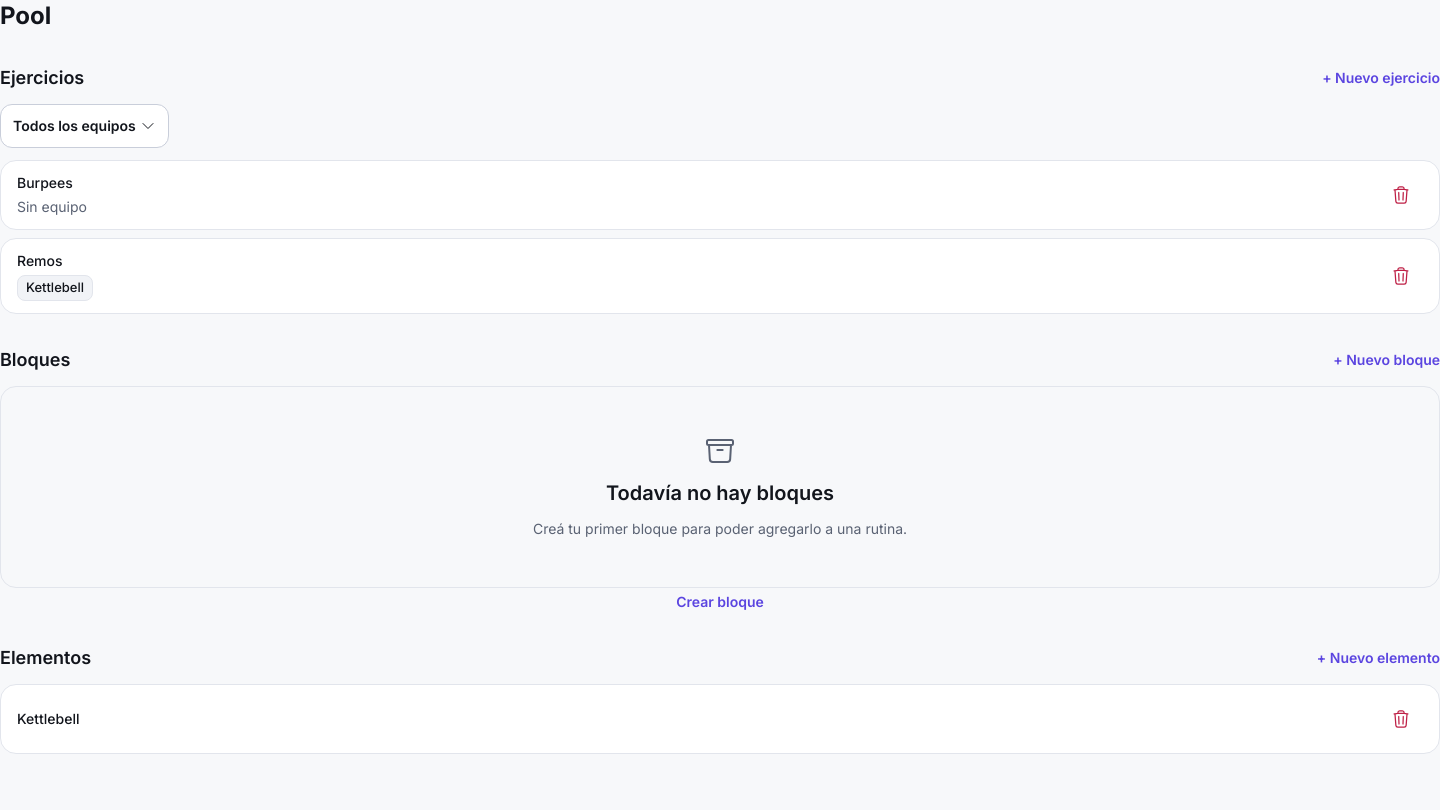
Test: PoolPage › filtro: elegir un elemento acota el listado de ejercicios (RF-018)
expect the text "Burpees" is shown: met, box [17, 174, 73, 191]
Click the button "Todos los equipos" at (84, 126), box [0, 104, 169, 148]
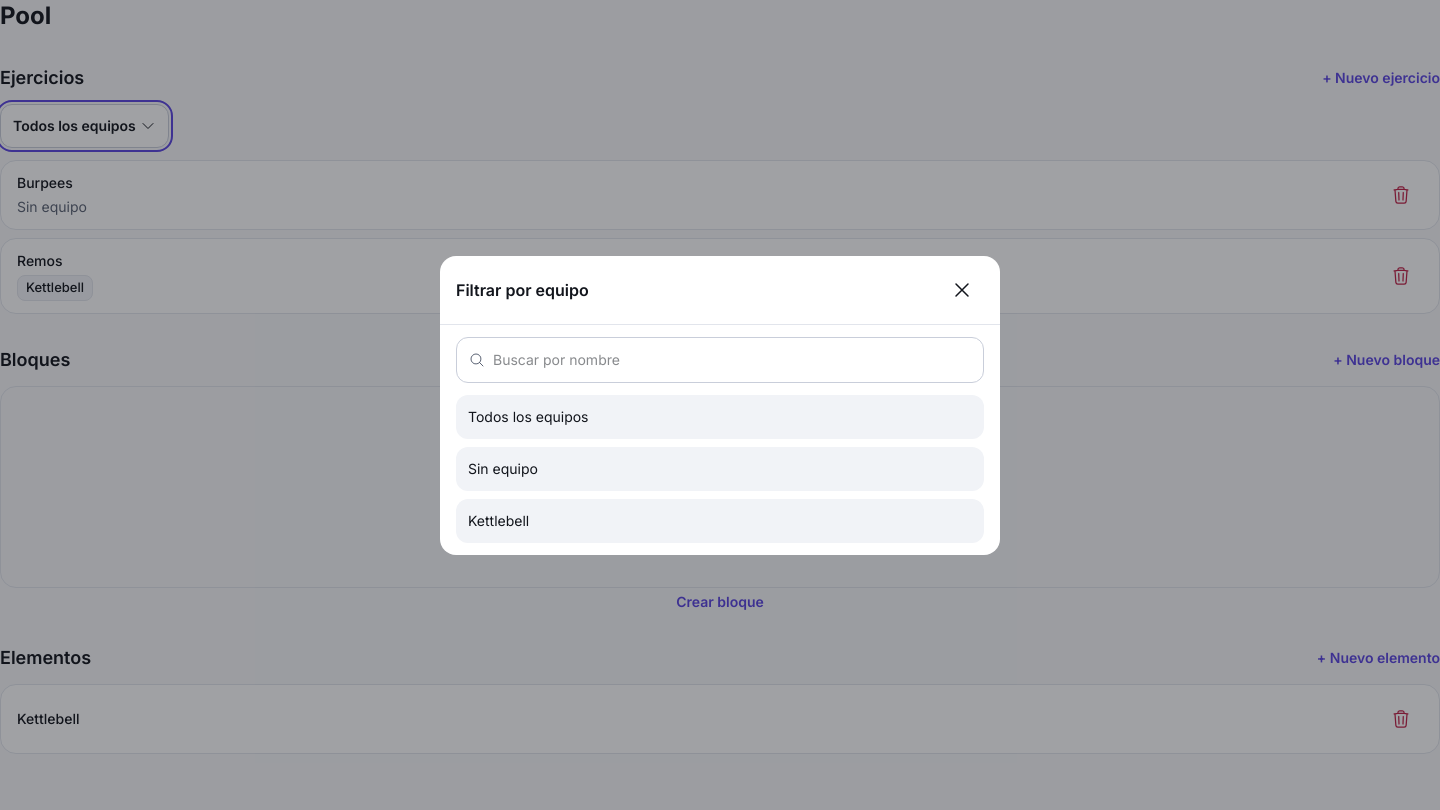
Click the button "Kettlebell" at (499, 520), box [456, 498, 984, 542]
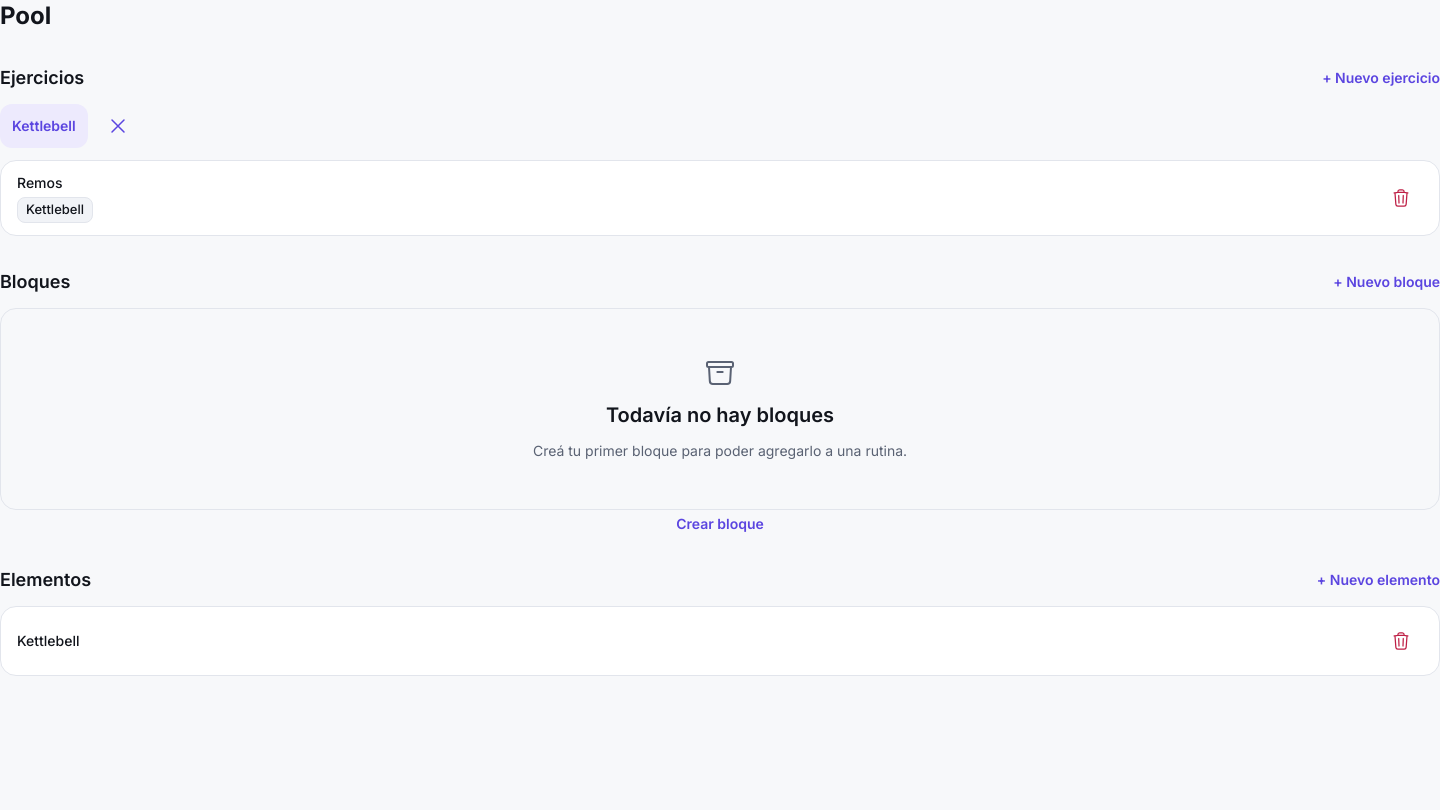
expect the button "Kettlebell" is shown: met, box [0, 104, 88, 148]
